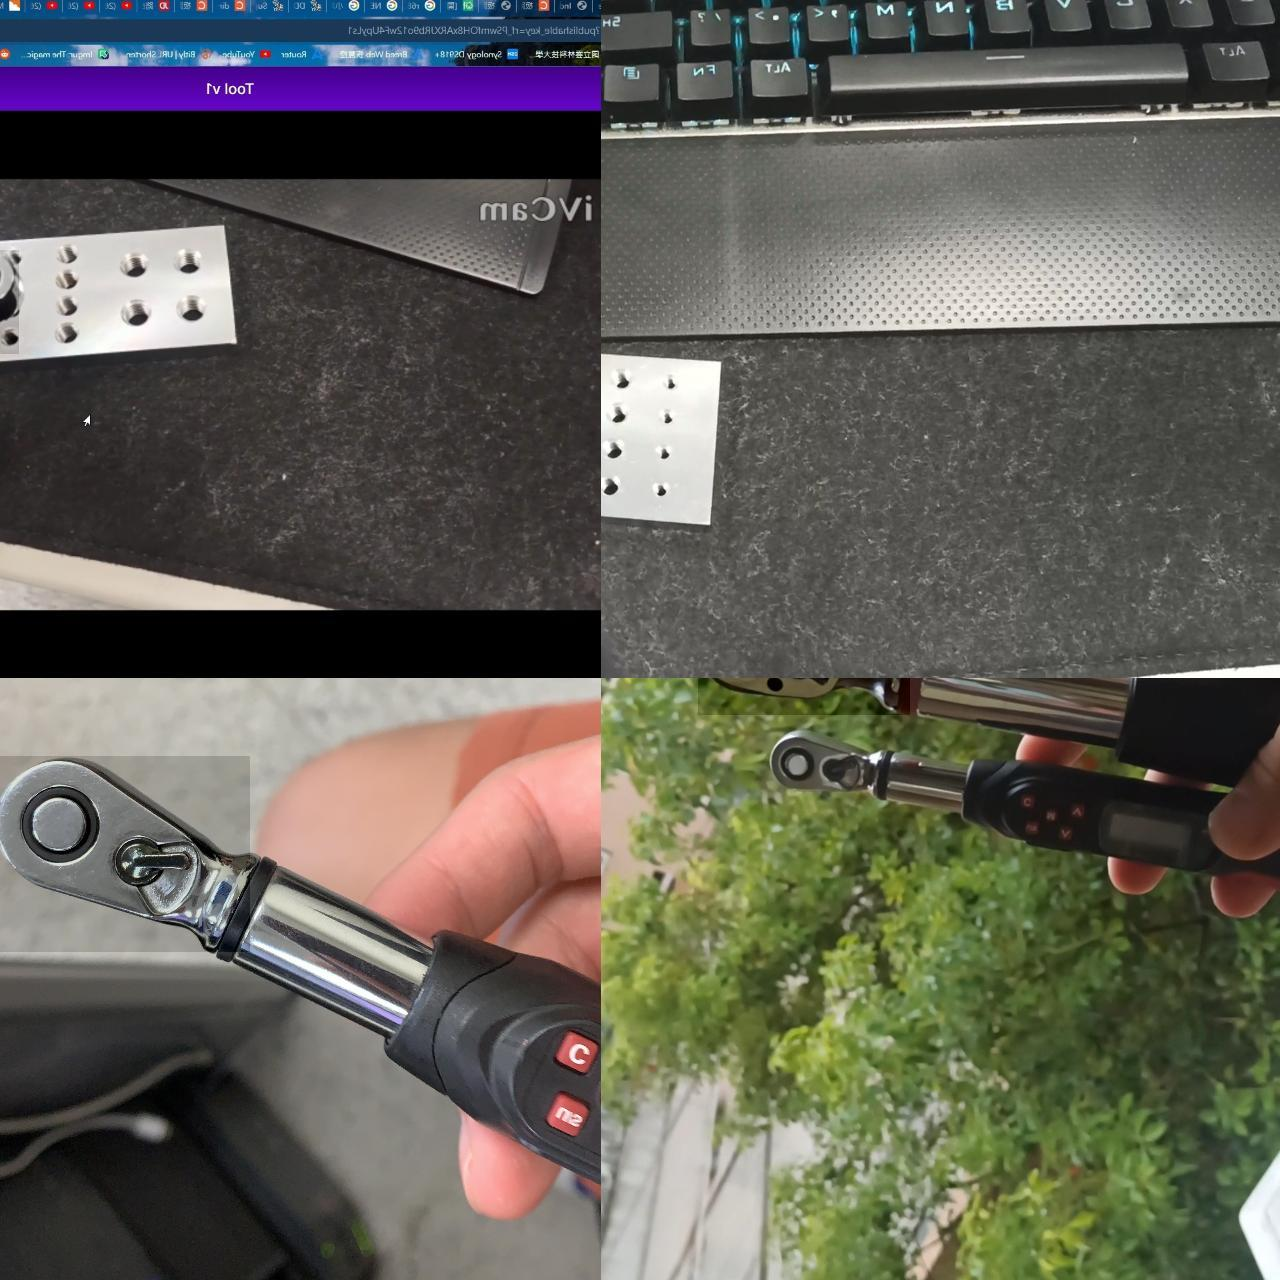Tool: (0, 755, 248, 951), (697, 678, 908, 714), (769, 730, 884, 792)
hole: (168, 240, 205, 278), (113, 297, 148, 331), (171, 293, 205, 327), (111, 246, 145, 279), (48, 319, 77, 346), (49, 287, 77, 313), (52, 240, 77, 264), (50, 265, 76, 288), (0, 279, 18, 312), (611, 402, 635, 424), (608, 440, 632, 462), (606, 474, 628, 496), (614, 370, 636, 392), (660, 443, 681, 463), (658, 478, 679, 498), (1, 244, 21, 265), (0, 325, 16, 349), (662, 406, 681, 423), (666, 375, 685, 392)
